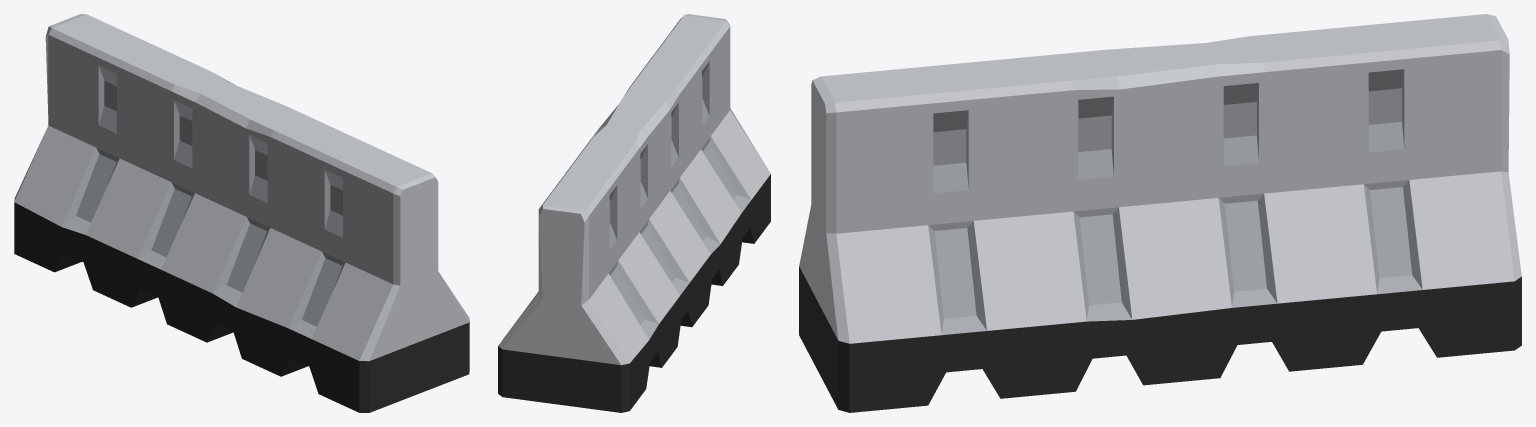
Rendered from SM_Prop_Barrier_Plastic_02.fbx.
3 views of the same model, side by side, from view 1: azimuth 30°, elevation 25°; view 2: azimuth 150°, elevation 25°; view 3: azimuth 270°, elevation 25° (orthographic). The views are drawn at different scales.
Parts seen in each view (by area): view 1: SM_Prop_Barrier_Plastic_02; view 2: SM_Prop_Barrier_Plastic_02; view 3: SM_Prop_Barrier_Plastic_02.
Part boxes in pixels (x1,y1,x2,y2): SM_Prop_Barrier_Plastic_02: (14, 14, 469, 412); SM_Prop_Barrier_Plastic_02: (498, 14, 770, 412); SM_Prop_Barrier_Plastic_02: (799, 14, 1521, 412).
Bounding box in the file's own units: 1.12 × 1.02 × 2.36.
